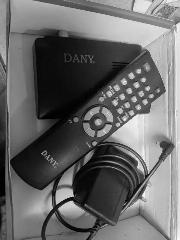electronic: (6, 40, 172, 211), (13, 28, 167, 128), (66, 128, 180, 240)
